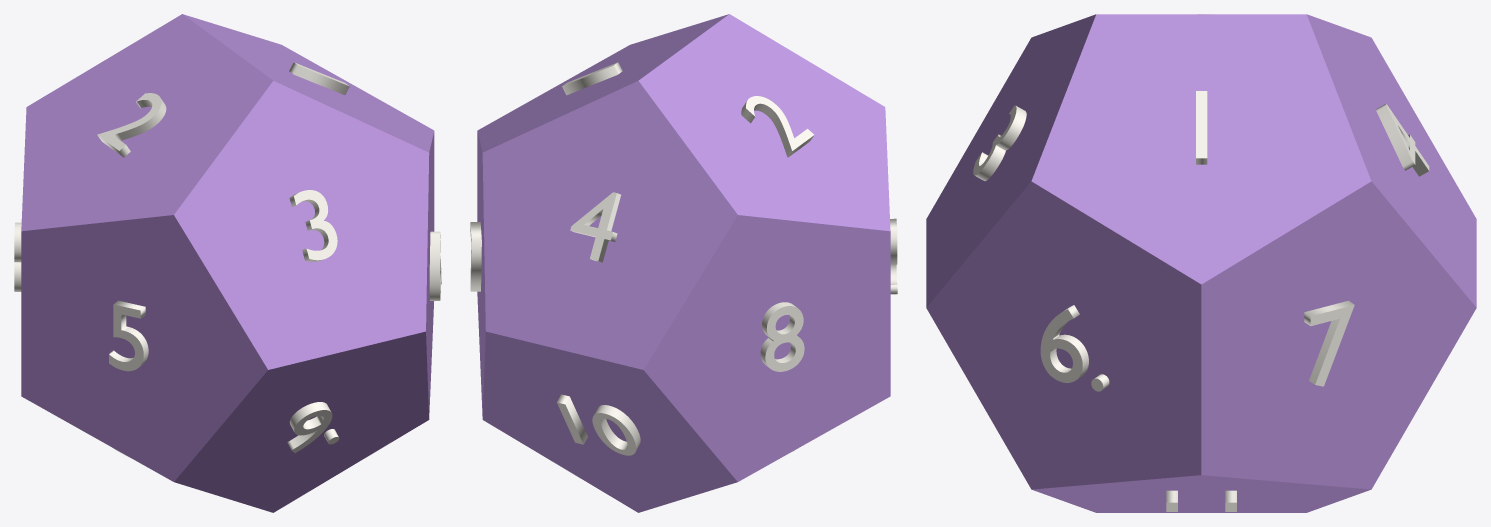
File: Dice_D12.glb
3 views of the same model, side by side, from view 1: azimuth 30°, elevation 25°; view 2: azimuth 150°, elevation 25°; view 3: azimuth 270°, elevation 25° (orthographic). The views are drawn at different scales.
Parts seen in each view (by area): view 1: Dice_D12; view 2: Dice_D12; view 3: Dice_D12.
Part boxes in pixels (bbox=[...]): Dice_D12: bbox=[14, 14, 441, 512]; Dice_D12: bbox=[470, 14, 897, 512]; Dice_D12: bbox=[926, 14, 1476, 512].
Size of the model in its own units: 0.9342 by 0.9342 by 0.9342.
